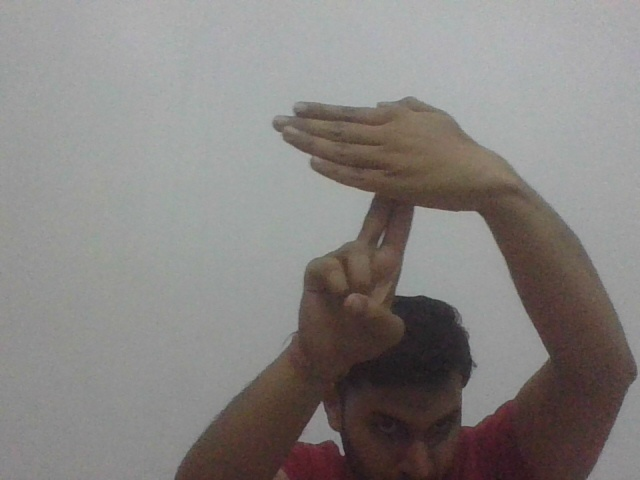N: (271, 84, 476, 242)
